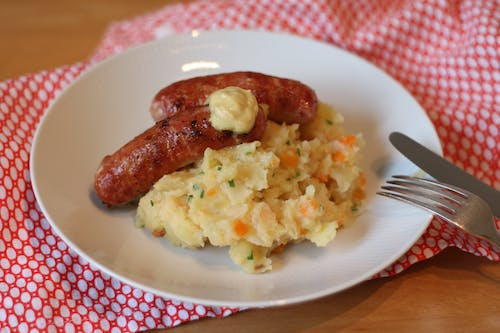knife: (388, 128, 500, 221)
